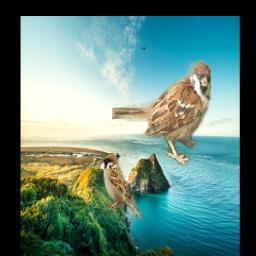Sparrow: (112, 60, 213, 165), (103, 154, 141, 221)
